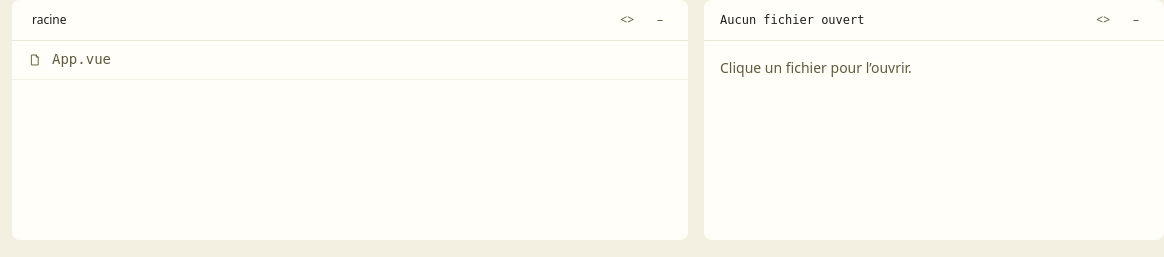
it: FileBrowser affiche le rendu deja colore par le serveur › n'utilise plus de coloration cote client, juste le html recu
Click the button "App.vue".
click(82, 59)  # box [12,41,688,80]
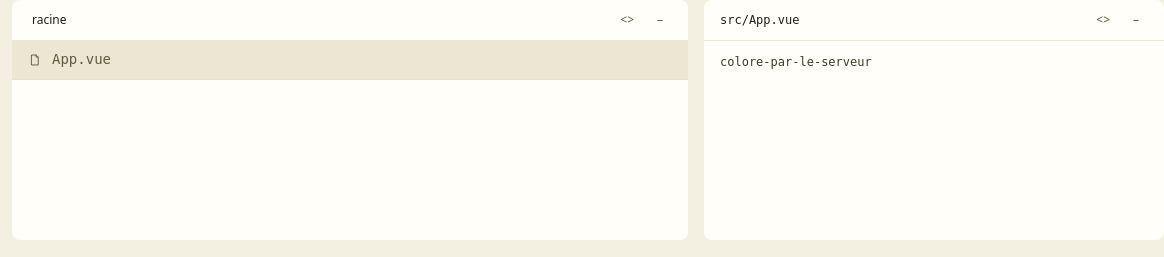
expect the text "colore-par-le-serveur" is shown: met, box [720,55,872,69]
